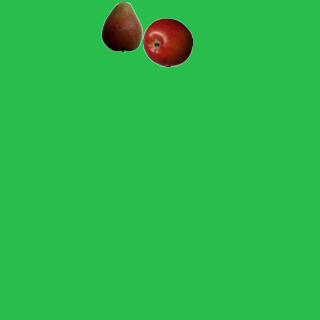Apple Braeburn: (142, 17, 192, 67)
Pear Forelle: (96, 1, 146, 51)
